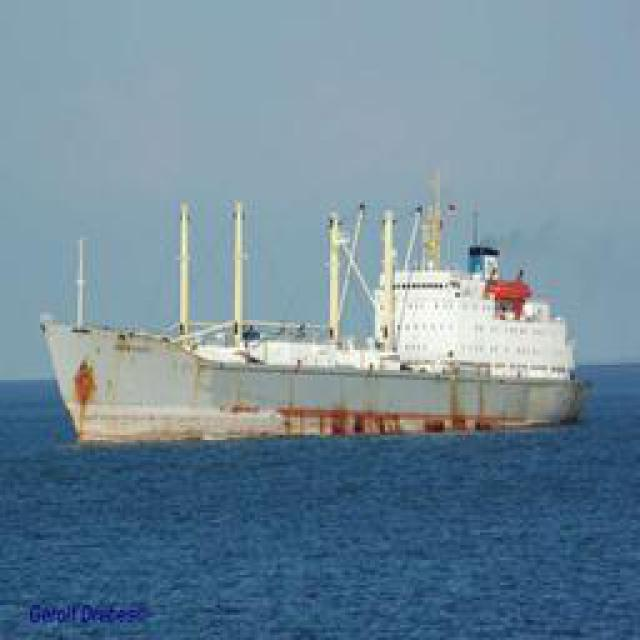Ship: (49, 177, 584, 437)
